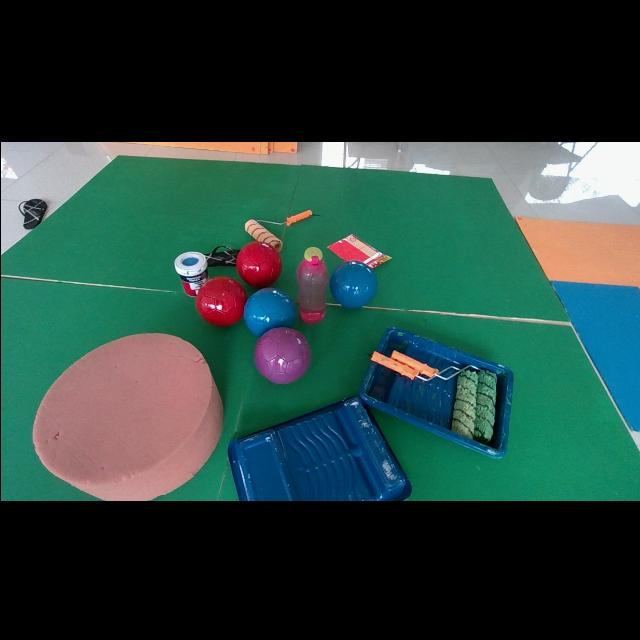B: (243, 286, 295, 336), (329, 259, 377, 306)
P: (254, 325, 311, 382)
R: (195, 275, 246, 325), (234, 240, 281, 286)
